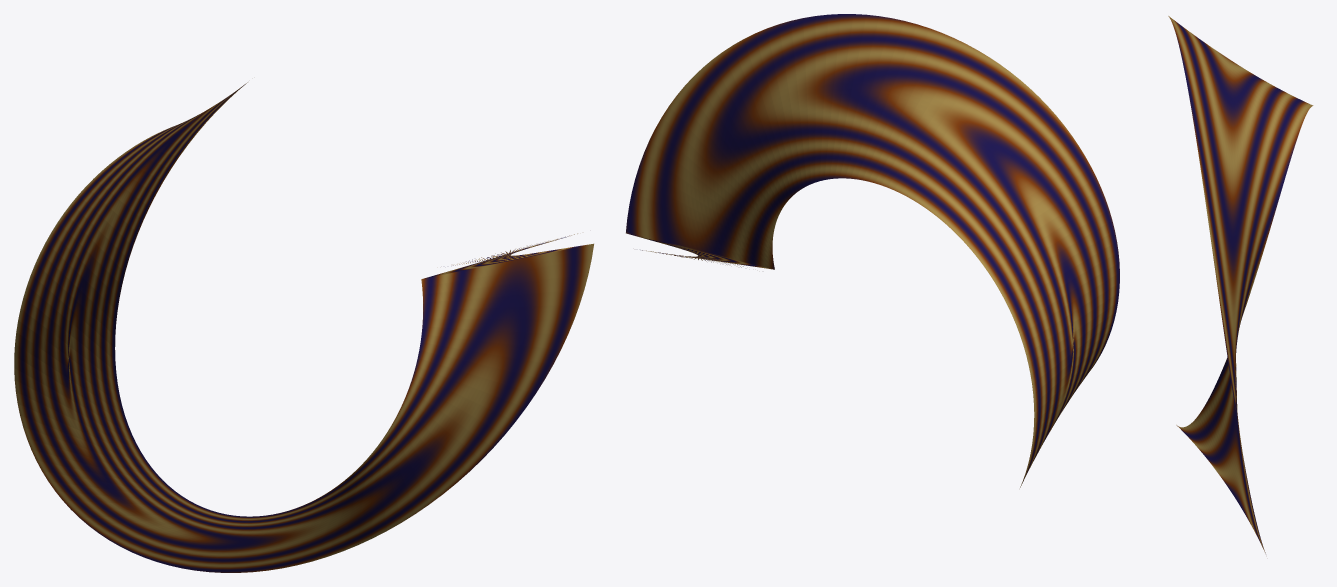
The model's file is mobius-warm-amber-c1.glb.
3 renders of one model, left to right at view 1: azimuth 30°, elevation 25°; view 2: azimuth 150°, elevation 25°; view 3: azimuth 270°, elevation 25°, orthographic. The views are drawn at different scales.
Parts seen in each view (by area): view 1: world; view 2: world; view 3: world.
Boxes of the visible parts, x1,y1,x2,y2 form: world: (14,82,593,572); world: (626,14,1119,487); world: (1168,16,1313,553).
Bounding box in the file's own units: 2.42 × 2.58 × 0.8.
1 material, 1 textured.
